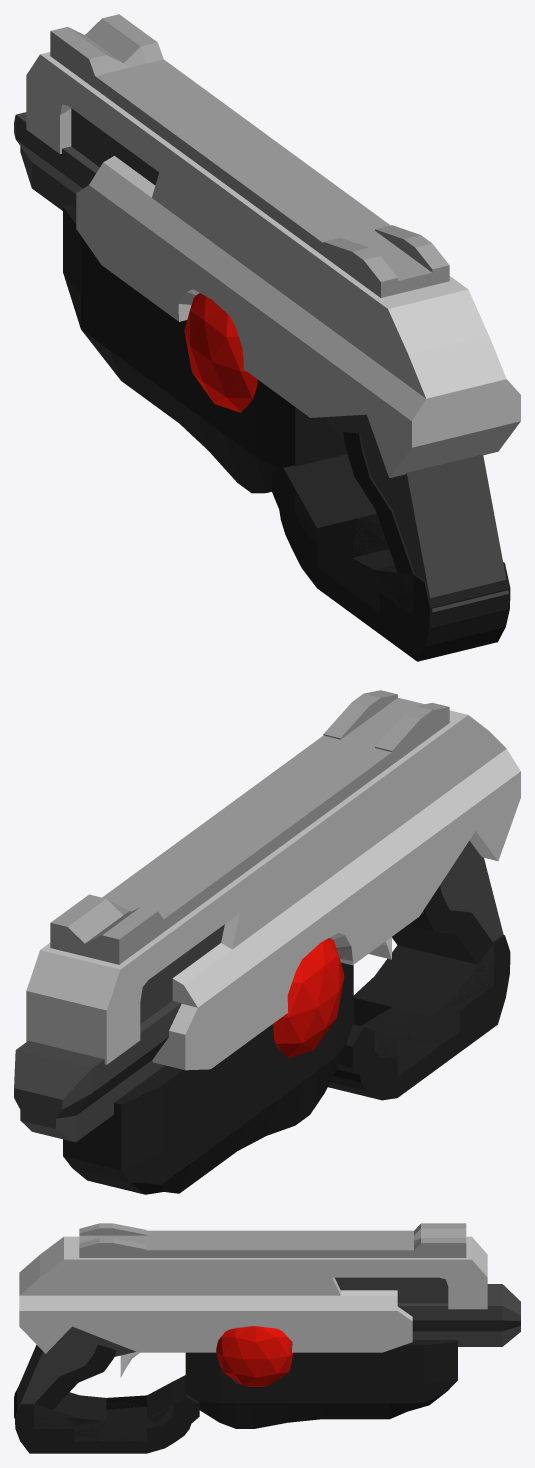
Rendered from Gun.fbx.
3 views of the same model, one above another, from view 1: azimuth 30°, elevation 25°; view 2: azimuth 150°, elevation 25°; view 3: azimuth 270°, elevation 25° (orthographic). The views are drawn at different scales.
Parts seen in each view (by area): view 1: Cannon, Handle.001, Cube, GuardRail, Energy.001; view 2: Cannon, Handle.001, Cube, GuardRail, Energy.001; view 3: Cannon, Handle.001, Cube, GuardRail, Energy.001.
Part boxes in pixels (x1=…): Cannon: x1=26, y1=52, x2=520, y2=478; Handle.001: x1=63, y1=205, x2=510, y2=661; Cube: x1=50, y1=14, x2=449, y2=297; GuardRail: x1=14, y1=108, x2=508, y2=612; Energy.001: x1=184, y1=293, x2=257, y2=412; Cannon: x1=26, y1=710, x2=520, y2=1070; Handle.001: x1=63, y1=886, x2=510, y2=1194; Cube: x1=50, y1=690, x2=449, y2=964; GuardRail: x1=14, y1=840, x2=503, y2=1142; Energy.001: x1=273, y1=938, x2=344, y2=1057; Cannon: x1=19, y1=1236, x2=487, y2=1353; Handle.001: x1=14, y1=1340, x2=457, y2=1453; Cube: x1=79, y1=1223, x2=466, y2=1257; GuardRail: x1=14, y1=1277, x2=520, y2=1418; Energy.001: x1=216, y1=1326, x2=293, y2=1386.
Bounding box in the file's own units: 316 × 847 × 1863.
